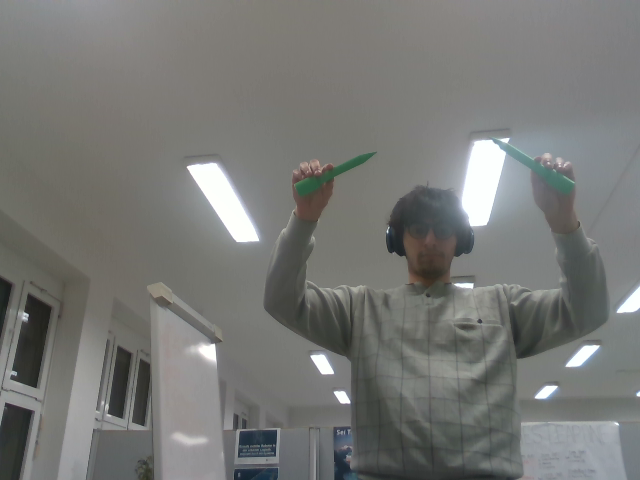Probe: (488, 134, 579, 197), (291, 149, 382, 198)
